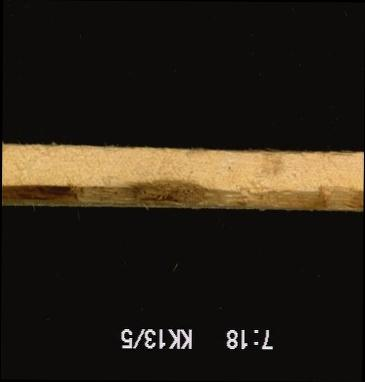wave: (1, 181, 362, 222)
